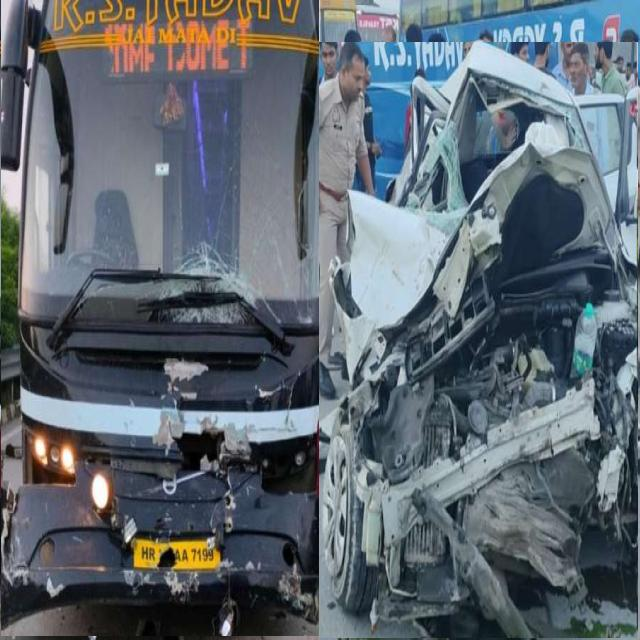accident: (0, 0, 319, 636), (319, 42, 638, 638)
bus: (401, 0, 639, 197)
